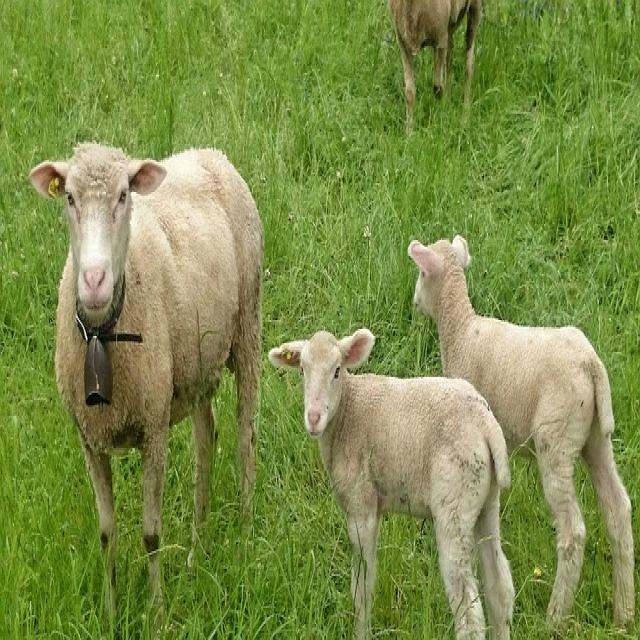goat: (28, 142, 266, 572), (407, 236, 637, 631), (267, 329, 516, 640)
